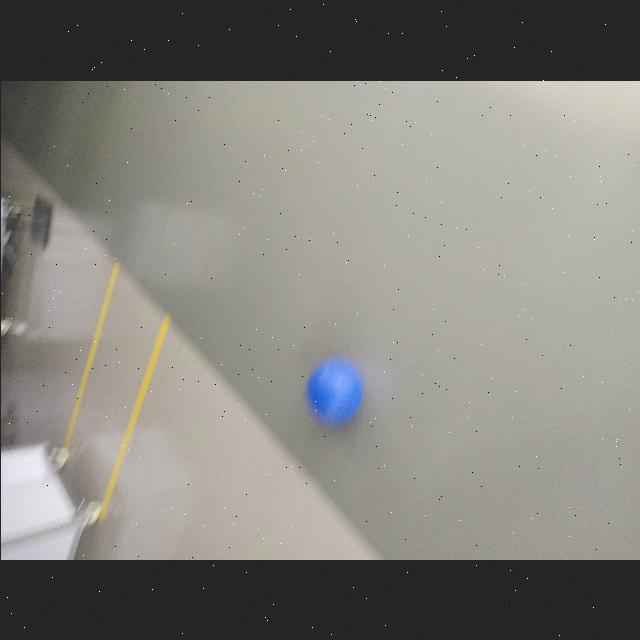B: (303, 357, 363, 427)
